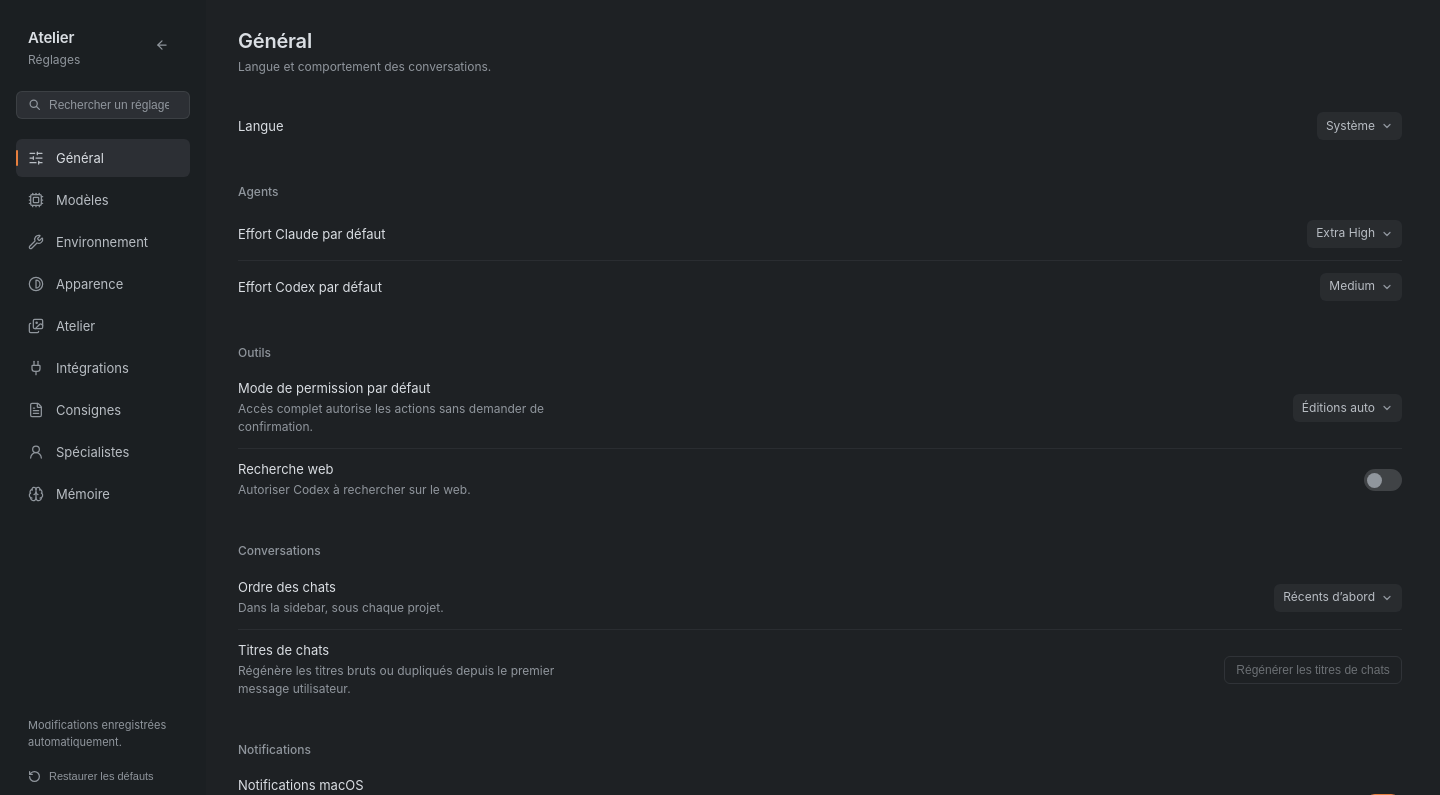
Scenario: SettingsPage — navigation et fermeture › cliquer une section bascule le contenu et l'état actif
The width and height of the screenshot is (1440, 795).
Click the button "Apparence".
click(103, 284)  # box [16,264,190,302]
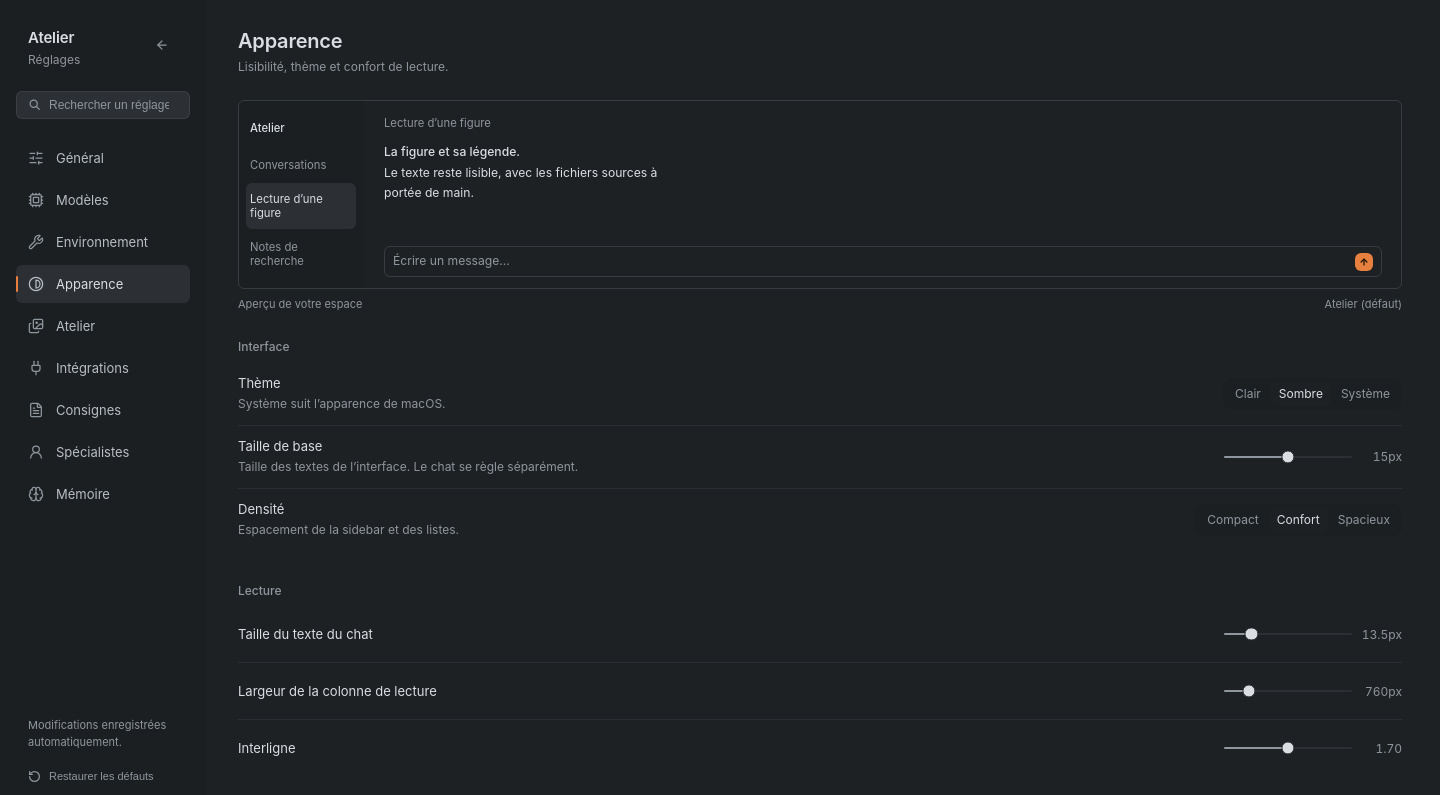
Expected: the text "Lisibilité, thème et confort de lecture." is shown, [238,59,448,74]
